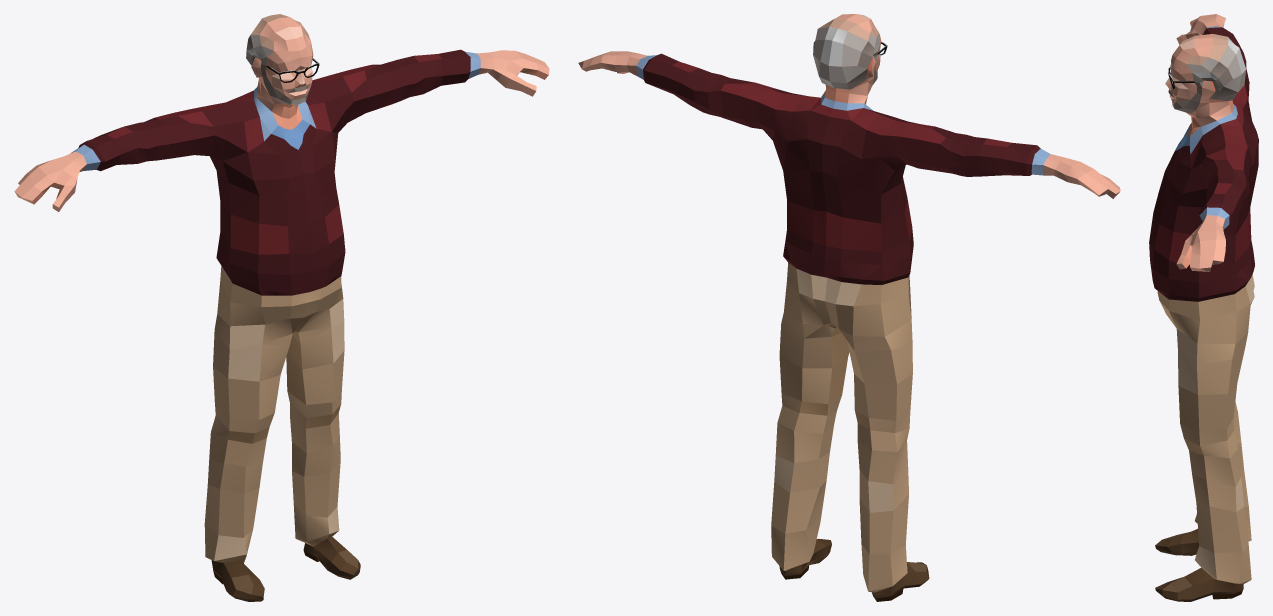
Rendered from office_Male_B-model.obj.
3 renders of one model, left to right at view 1: azimuth 30°, elevation 25°; view 2: azimuth 150°, elevation 25°; view 3: azimuth 270°, elevation 25°, orthographic. The views are drawn at different scales.
Parts seen in each view (by area): view 1: office_Male_B; view 2: office_Male_B; view 3: office_Male_B.
Boxes of the visible parts, box(x1,y1,x2,y2) form: office_Male_B: box(14, 14, 549, 601); office_Male_B: box(578, 14, 1120, 601); office_Male_B: box(1149, 14, 1258, 601).
Size of the model in its own units: 168 by 168 by 31.09.
